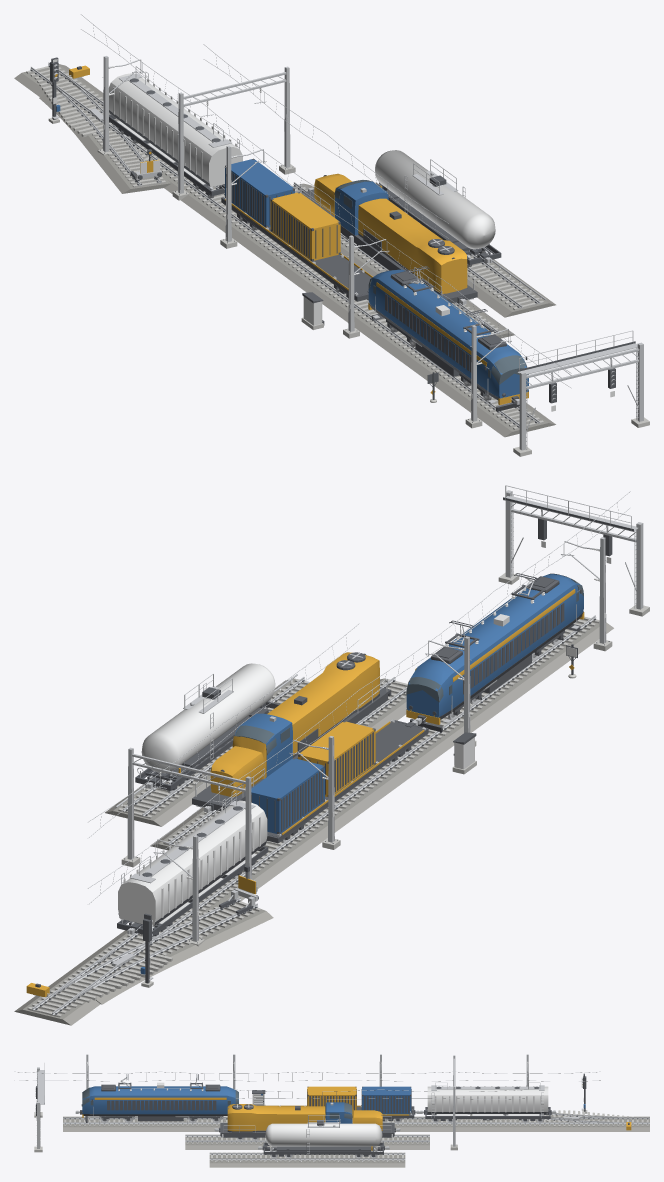
Rendered from modern-rail-and-metro-network-electrified-freight-yard-80f9e1a9__13727.glb.
3 views of the same model, one above another, from view 1: azimuth 30°, elevation 25°; view 2: azimuth 150°, elevation 25°; view 3: azimuth 270°, elevation 25° (orthographic). The views are drawn at different scales.
Visible parts, largest first — view 1: 021-diesel-freight-locomotive/1, 020-covered-hopper-wagon/10, 018-electric-freight-locomotive/0, 041-bogie-tank-wagon/10, 019-container-flat-wagon-loaded/0, 018-electric-freight-locomotive/1, 033-signal-gantry/1, 019-container-flat-wagon-loaded/10, 019-container-flat-wagon-loaded/11, 026-catenary-portal-mast/1, 010-turnout-left/1, 021-diesel-freight-locomotive/0 (+27 smaller); view 2: 020-covered-hopper-wagon/10, 018-electric-freight-locomotive/0, 021-diesel-freight-locomotive/1, 041-bogie-tank-wagon/10, 019-container-flat-wagon-loaded/0, 018-electric-freight-locomotive/1, 033-signal-gantry/1, 019-container-flat-wagon-loaded/11, 019-container-flat-wagon-loaded/10, 010-turnout-left/1, 010-turnout-left/0, 026-catenary-portal-mast/1 (+22 smaller); view 3: 018-electric-freight-locomotive/0, 020-covered-hopper-wagon/10, 041-bogie-tank-wagon/10, 021-diesel-freight-locomotive/1, 018-electric-freight-locomotive/1, 019-container-flat-wagon-loaded/0, 041-bogie-tank-wagon/0, 019-container-flat-wagon-loaded/11, 010-turnout-left/0, 019-container-flat-wagon-loaded/10, 020-covered-hopper-wagon/0, 021-diesel-freight-locomotive/0 (+26 smaller).
Boxes of the visible parts, box(x1,y1,x2,y2) form: 021-diesel-freight-locomotive/1: box(314, 173, 467, 293); 020-covered-hopper-wagon/10: box(109, 73, 242, 187); 018-electric-freight-locomotive/0: box(368, 269, 528, 398); 041-bogie-tank-wagon/10: box(375, 150, 495, 249); 019-container-flat-wagon-loaded/0: box(221, 158, 371, 301); 018-electric-freight-locomotive/1: box(368, 270, 528, 411); 033-signal-gantry/1: box(517, 330, 643, 450); 019-container-flat-wagon-loaded/10: box(225, 192, 372, 290); 019-container-flat-wagon-loaded/11: box(225, 159, 294, 227); 026-catenary-portal-mast/1: box(178, 66, 290, 193); 010-turnout-left/1: box(26, 66, 119, 137); 021-diesel-freight-locomotive/0: box(302, 175, 477, 303); 020-covered-hopper-wagon/10: box(118, 800, 267, 926); 018-electric-freight-locomotive/0: box(406, 574, 583, 717); 021-diesel-freight-locomotive/1: box(210, 652, 379, 797); 041-bogie-tank-wagon/10: box(141, 663, 275, 773); 019-container-flat-wagon-loaded/0: box(251, 720, 428, 843); 018-electric-freight-locomotive/1: box(406, 576, 583, 732); 033-signal-gantry/1: box(503, 485, 643, 609); 019-container-flat-wagon-loaded/11: box(251, 758, 324, 833); 019-container-flat-wagon-loaded/10: box(282, 721, 424, 835); 010-turnout-left/1: box(27, 943, 172, 1017); 010-turnout-left/0: box(14, 943, 173, 1025); 026-catenary-portal-mast/1: box(127, 747, 251, 879); 018-electric-freight-locomotive/0: box(82, 1086, 238, 1114); 020-covered-hopper-wagon/10: box(427, 1086, 548, 1115); 041-bogie-tank-wagon/10: box(265, 1123, 382, 1146); 021-diesel-freight-locomotive/1: box(227, 1104, 382, 1131); 018-electric-freight-locomotive/1: box(80, 1082, 227, 1123); 019-container-flat-wagon-loaded/0: box(307, 1086, 415, 1121); 041-bogie-tank-wagon/0: box(262, 1120, 384, 1156); 019-container-flat-wagon-loaded/11: box(362, 1086, 411, 1114); 010-turnout-left/0: box(550, 1112, 649, 1131); 019-container-flat-wagon-loaded/10: box(257, 1086, 409, 1115); 020-covered-hopper-wagon/0: box(424, 1086, 551, 1121); 021-diesel-freight-locomotive/0: box(219, 1104, 395, 1138).
Bounding box in the file's own units: 17.97 × 8.4 × 78.
